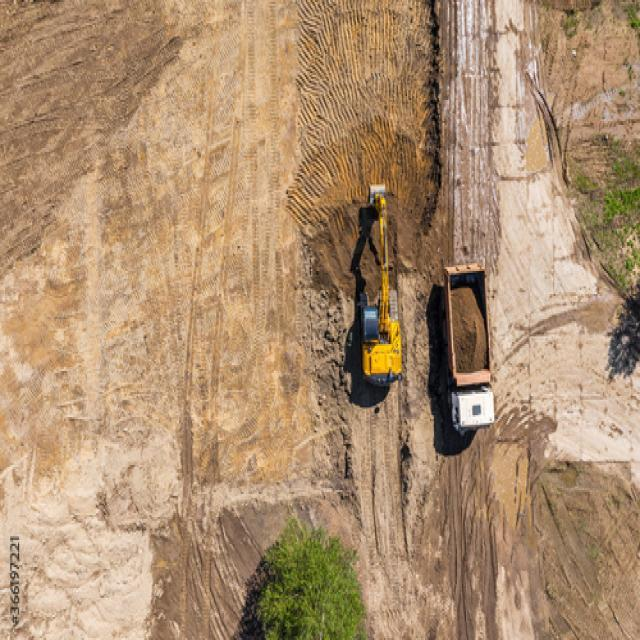excavator: (362, 184, 402, 384)
